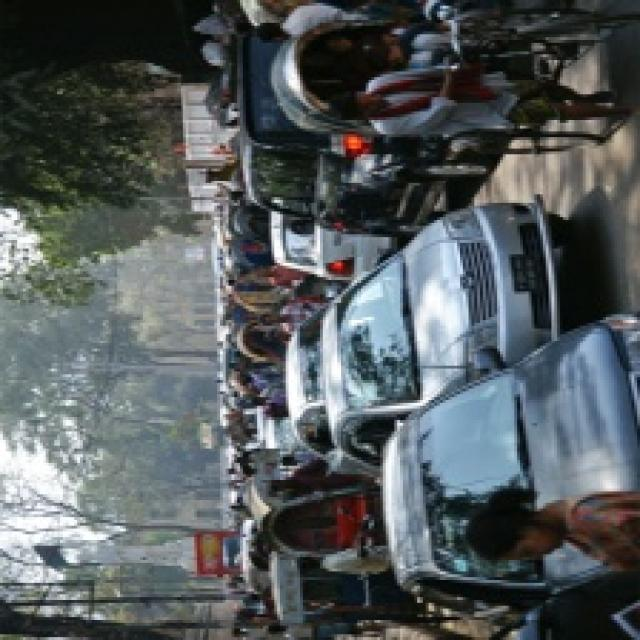car: (383, 314, 626, 595), (340, 192, 563, 470)
rickshaw: (270, 5, 601, 138), (268, 480, 392, 567)
